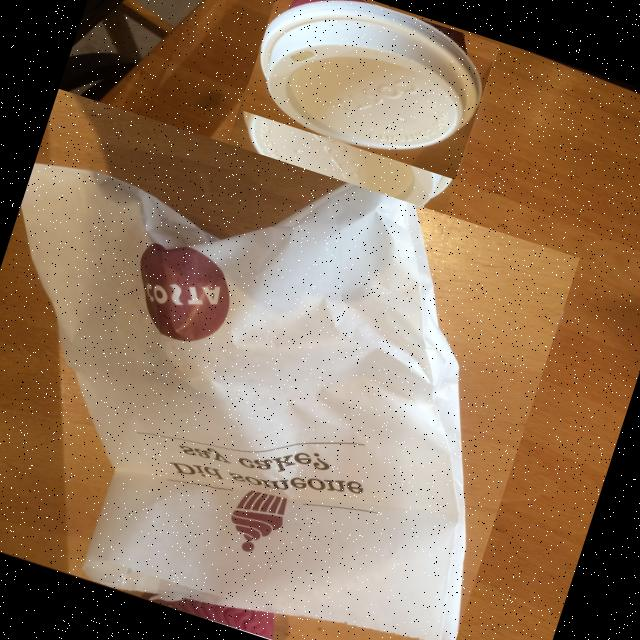Paper bag: (21, 164, 465, 640)
Paper cup: (244, 13, 463, 216)
Plastic lid: (260, 4, 481, 152)
